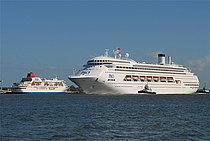Ship: (66, 46, 202, 99), (10, 70, 75, 97)
